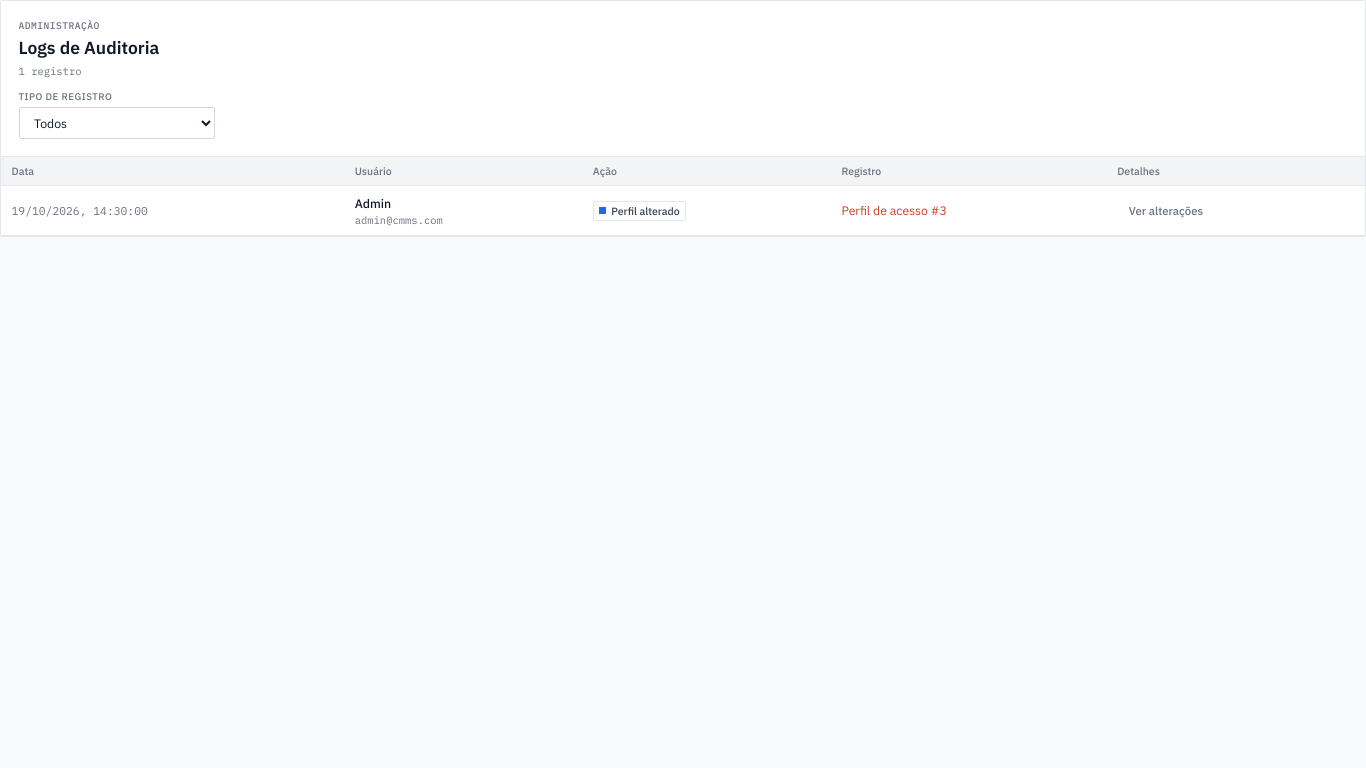
Test case: AuditLogPage › deve abrir o antes e depois formatados ao clicar em Ver alterações
Click the button "Ver alterações". click: click(1166, 211)
box: [1117,197,1214,225]
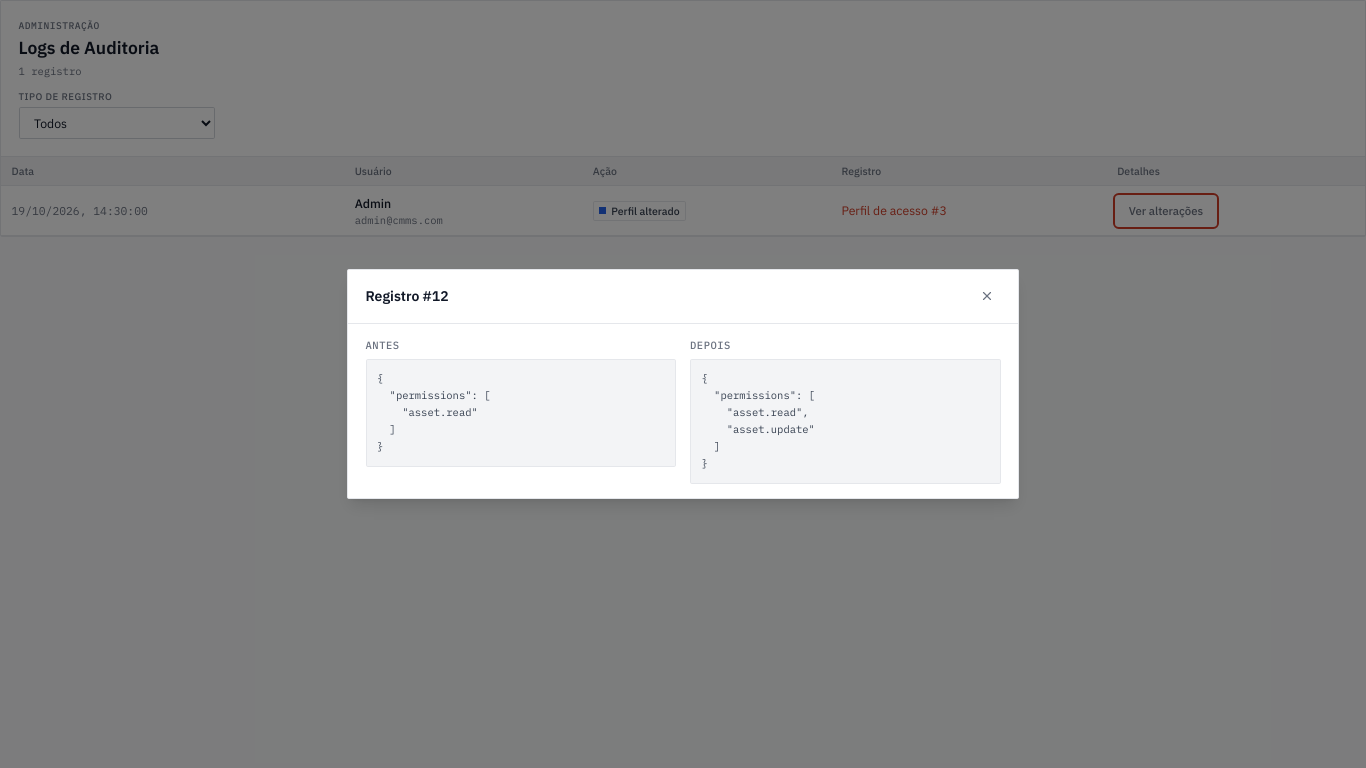
expect the heading "Registro #12" is shown: met, box [366,286,449,307]
expect the text "{ \"permissions\": [ \"asset.read\", \"asset.update\" ] }" is shown: met, box [690,359,1000,484]
